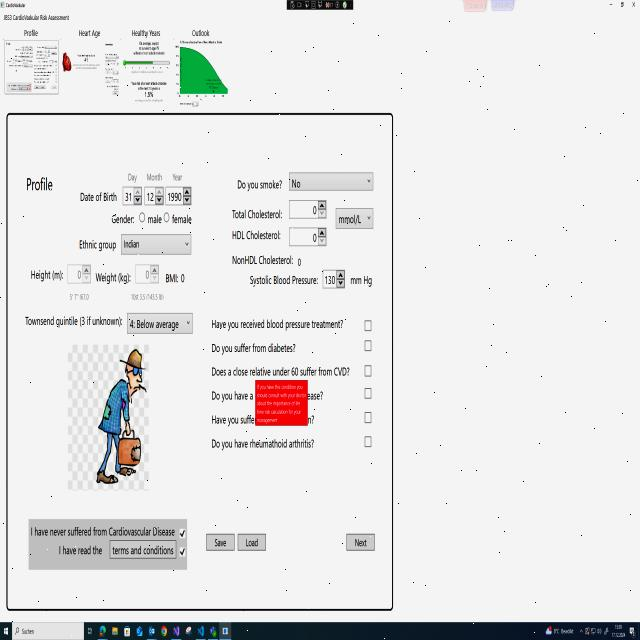button: (107, 538, 177, 566), (344, 528, 378, 555), (203, 528, 236, 553), (235, 528, 268, 552), (604, 0, 617, 13), (628, 0, 640, 11), (617, 0, 627, 11)
checkbox: (363, 432, 375, 452), (362, 409, 373, 426), (363, 316, 373, 334), (363, 338, 373, 354), (178, 544, 188, 560), (178, 527, 188, 542), (364, 363, 373, 379), (364, 387, 373, 402)
dropdownMenu: (289, 164, 376, 194), (119, 232, 194, 258), (126, 309, 196, 335), (333, 203, 375, 233)
input: (12, 623, 84, 640)
label: (28, 515, 175, 537), (209, 311, 349, 331), (208, 360, 354, 377), (18, 310, 125, 330), (206, 438, 318, 455), (208, 338, 300, 356), (229, 253, 312, 270), (75, 232, 117, 256), (232, 204, 283, 223), (229, 227, 282, 245), (247, 275, 320, 288), (76, 187, 121, 207), (23, 168, 56, 195), (235, 175, 285, 192), (55, 545, 103, 562), (3, 12, 70, 24), (92, 269, 134, 288), (202, 412, 252, 426), (28, 261, 64, 280), (206, 389, 253, 403), (161, 263, 187, 287), (127, 25, 166, 39), (126, 291, 168, 303), (66, 292, 93, 310), (109, 213, 137, 228), (78, 22, 104, 38), (349, 275, 377, 289), (146, 164, 164, 183), (172, 213, 196, 227), (188, 26, 213, 38), (122, 168, 139, 183), (22, 27, 42, 38), (170, 170, 185, 184), (148, 214, 162, 225)
radio: (138, 210, 147, 225), (163, 212, 171, 226)
upDown: (286, 196, 328, 221), (286, 224, 329, 248), (321, 262, 346, 293), (135, 260, 160, 288), (66, 260, 92, 286), (165, 186, 193, 207), (122, 184, 144, 207), (144, 184, 165, 206)
